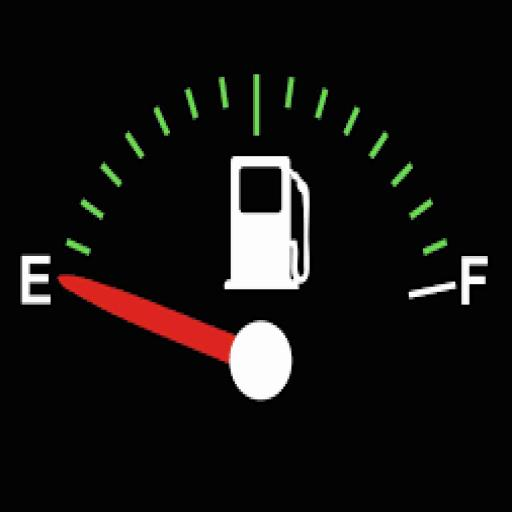empty: (21, 256, 51, 304)
fuel_icon: (224, 153, 310, 293)
full: (458, 250, 490, 305)
guage_area: (19, 65, 491, 414)
needle_center: (219, 314, 293, 402)
needle_tip: (58, 264, 101, 304)
